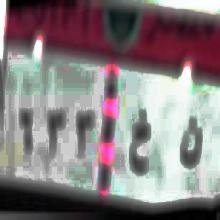3: (74, 95, 94, 163), (46, 109, 67, 159)
6: (18, 99, 34, 160)
khaa: (128, 108, 152, 178)
noon: (178, 112, 204, 174)
